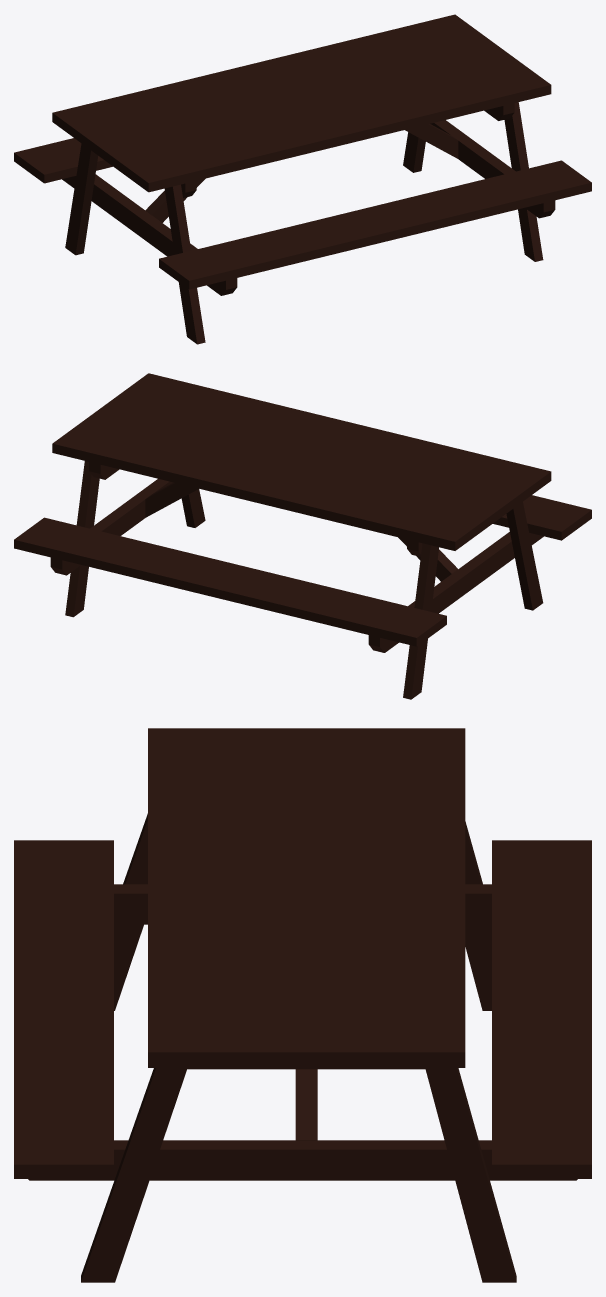
File: desk.fbx
The picture shows the model from 3 angles, top to bottom: view 1: azimuth 30°, elevation 25°; view 2: azimuth 150°, elevation 25°; view 3: azimuth 270°, elevation 25°; orthographic projection. The views are drawn at different scales.
Visible parts, largest first — view 1: Table_low; view 2: Table_low; view 3: Table_low.
Part boxes in pixels (x1,y1,x2,y2): Table_low: (14,14,591,344); Table_low: (14,373,591,699); Table_low: (14,728,591,1282).
Bounding box in the file's own units: 189 × 68.93 × 143.
